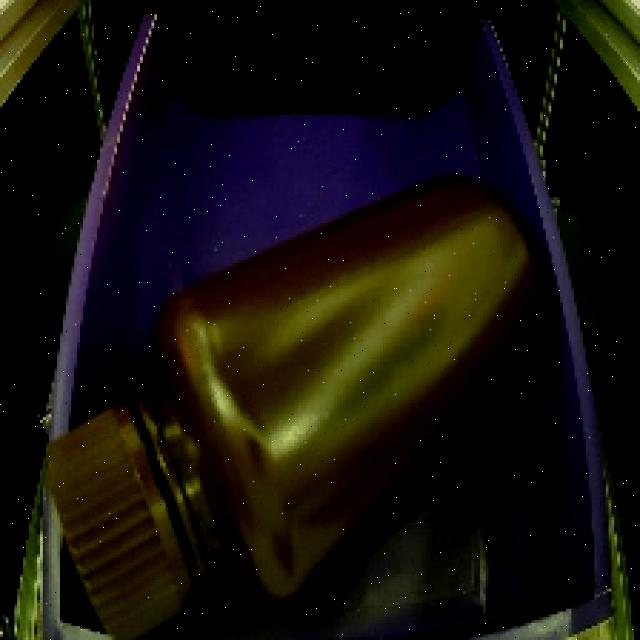plastic: (30, 147, 577, 640)
